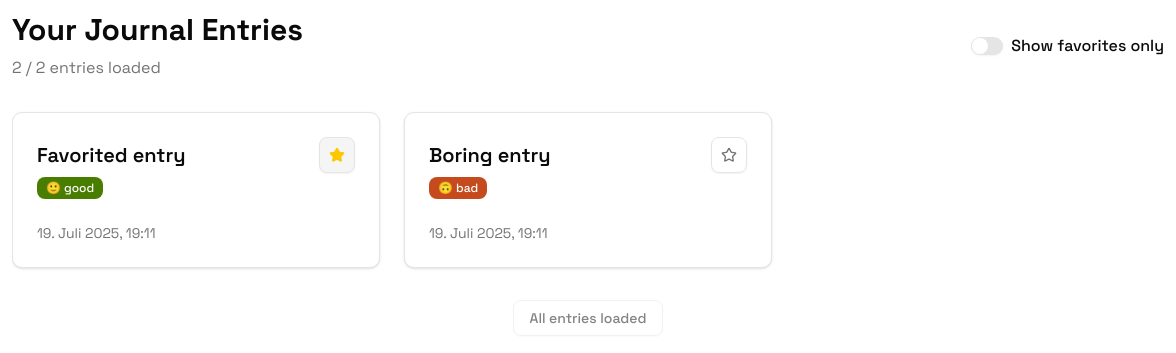
Test: Mandatory feature 3: favorites functionality › toggles “show favorites only” and updates entries
The image size is (1176, 353).
Check: the heading "Favorited entry" is shown, box [37,141,186,169]
Check: the heading "Boring entry" is shown, box [429,141,551,169]
Click the switch: click(987, 46) [971,37,1003,55]
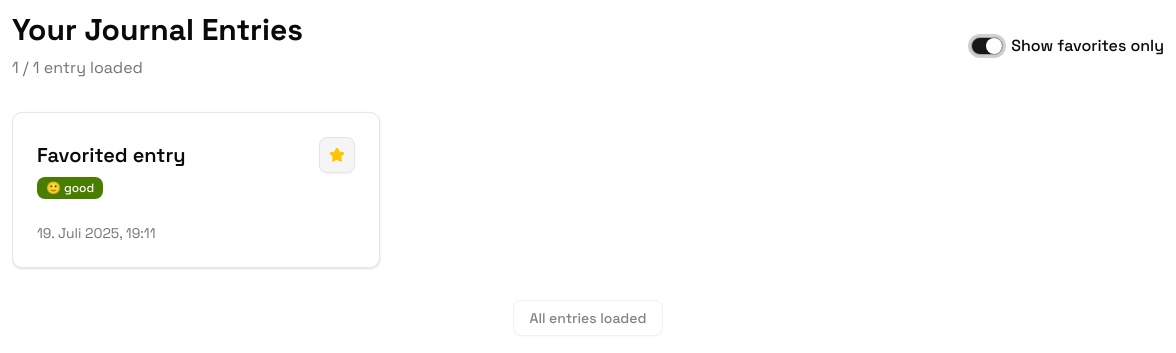
Check: the heading "Favorited entry" is shown, box [37,141,186,169]
Check: the heading "Boring entry" is gone
